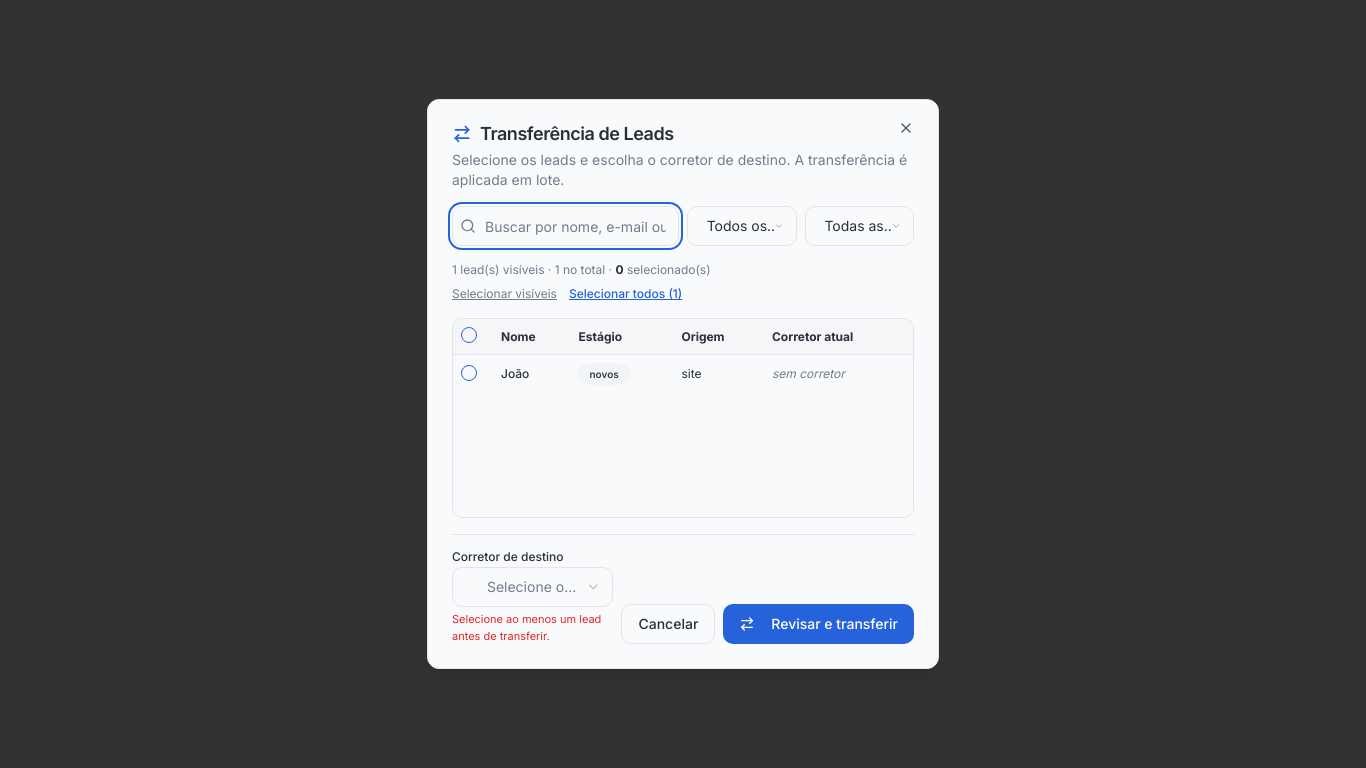
Test case: TransferLeadsDialog › mostra vazio de filtro quando busca não retorna nada
The image size is (1366, 768).
Type "zzzz" into the field with placeholder "Buscar por nome, e-mail ou telefone" at (566, 226), box [452,206,679,246]
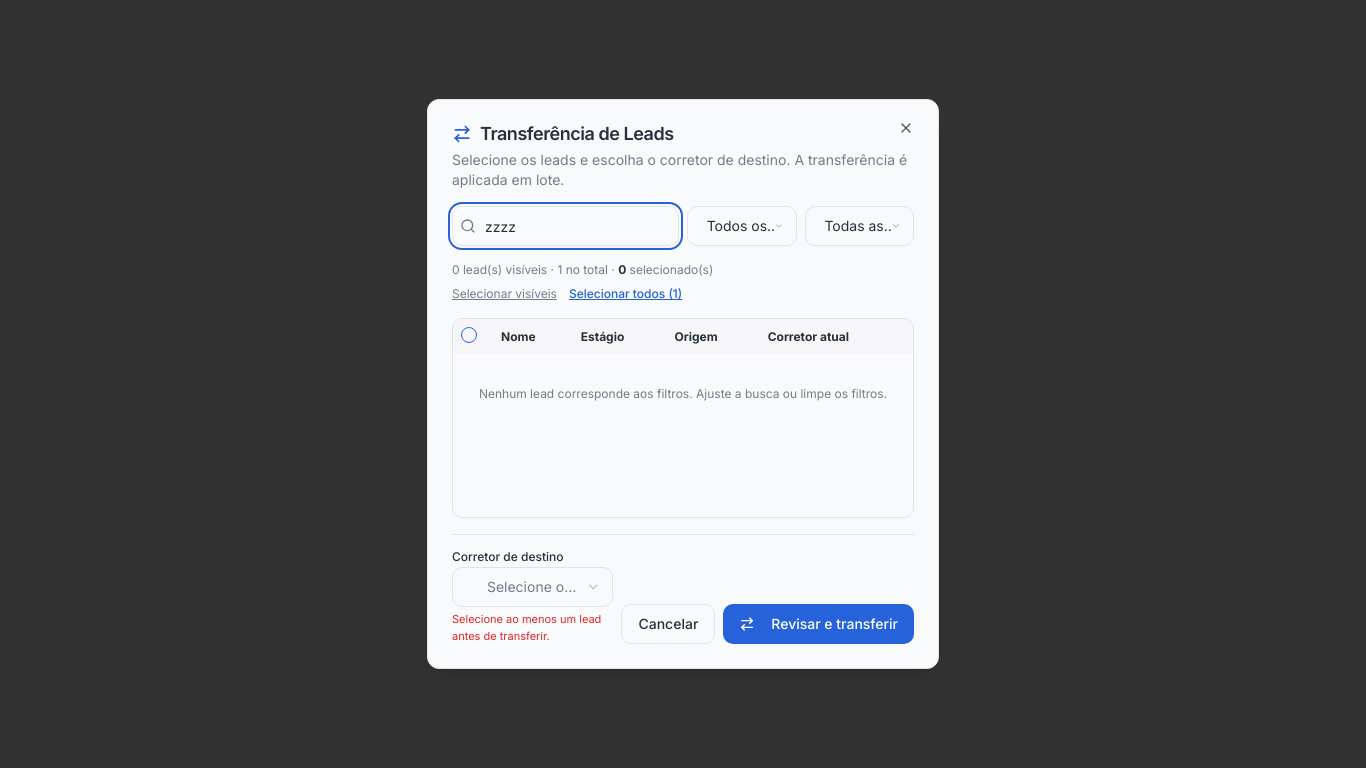
Expected: the cell with test id "tld-empty-filter" is shown, [453,354,913,434]
